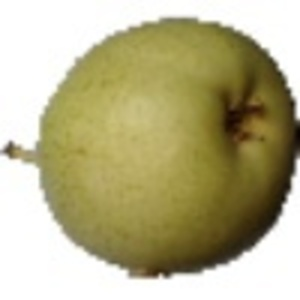pera: (3, 17, 300, 282)
